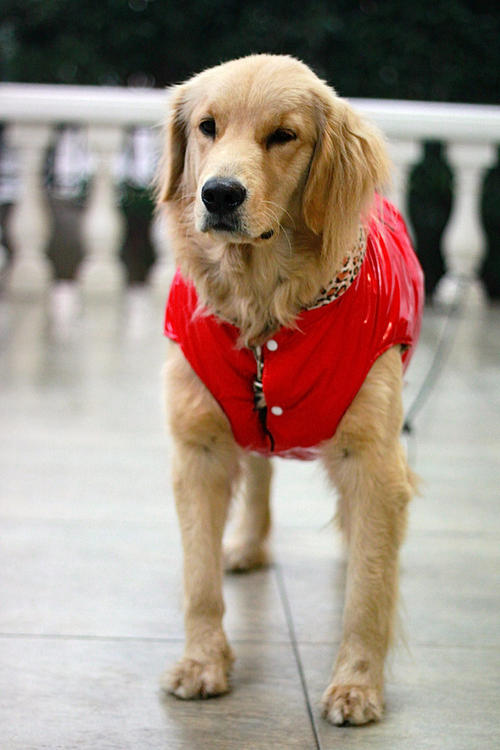dog: (148, 54, 382, 286)
